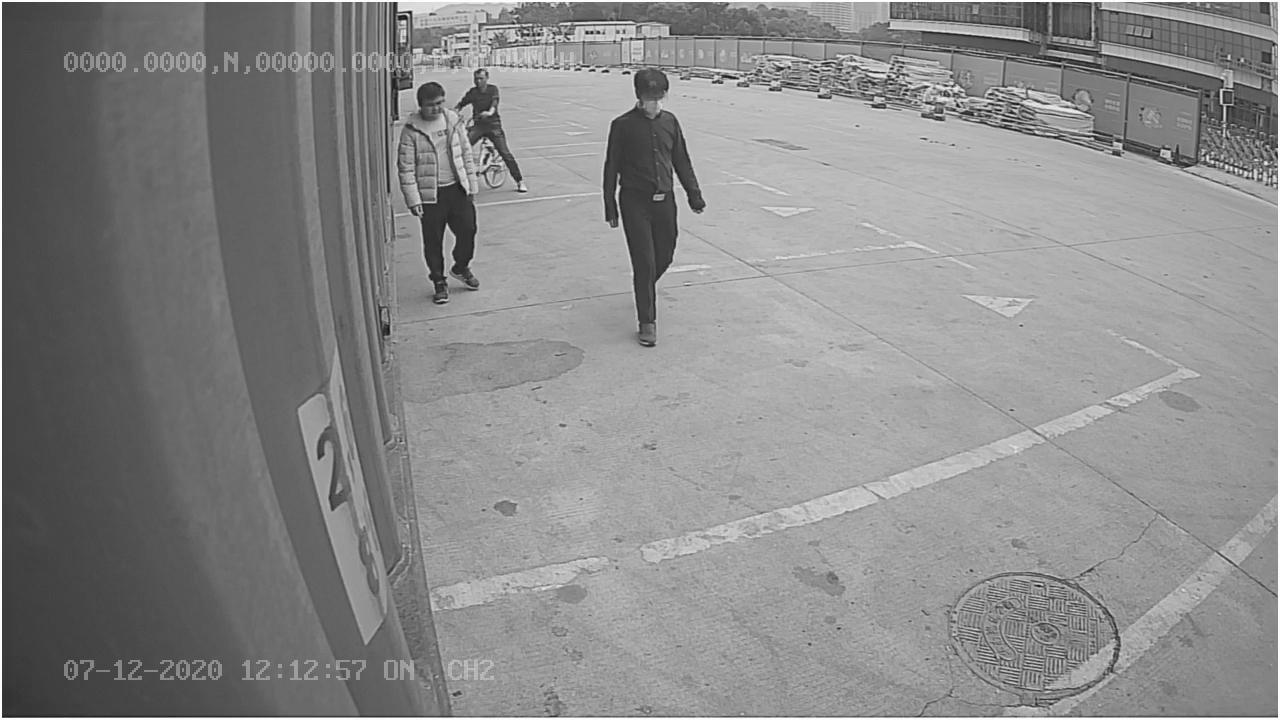person: (603, 67, 704, 348)
